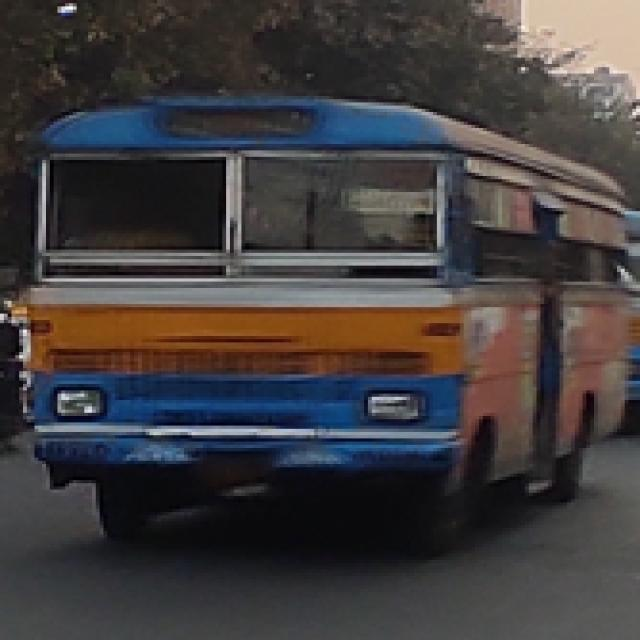bus: (33, 90, 640, 570)
